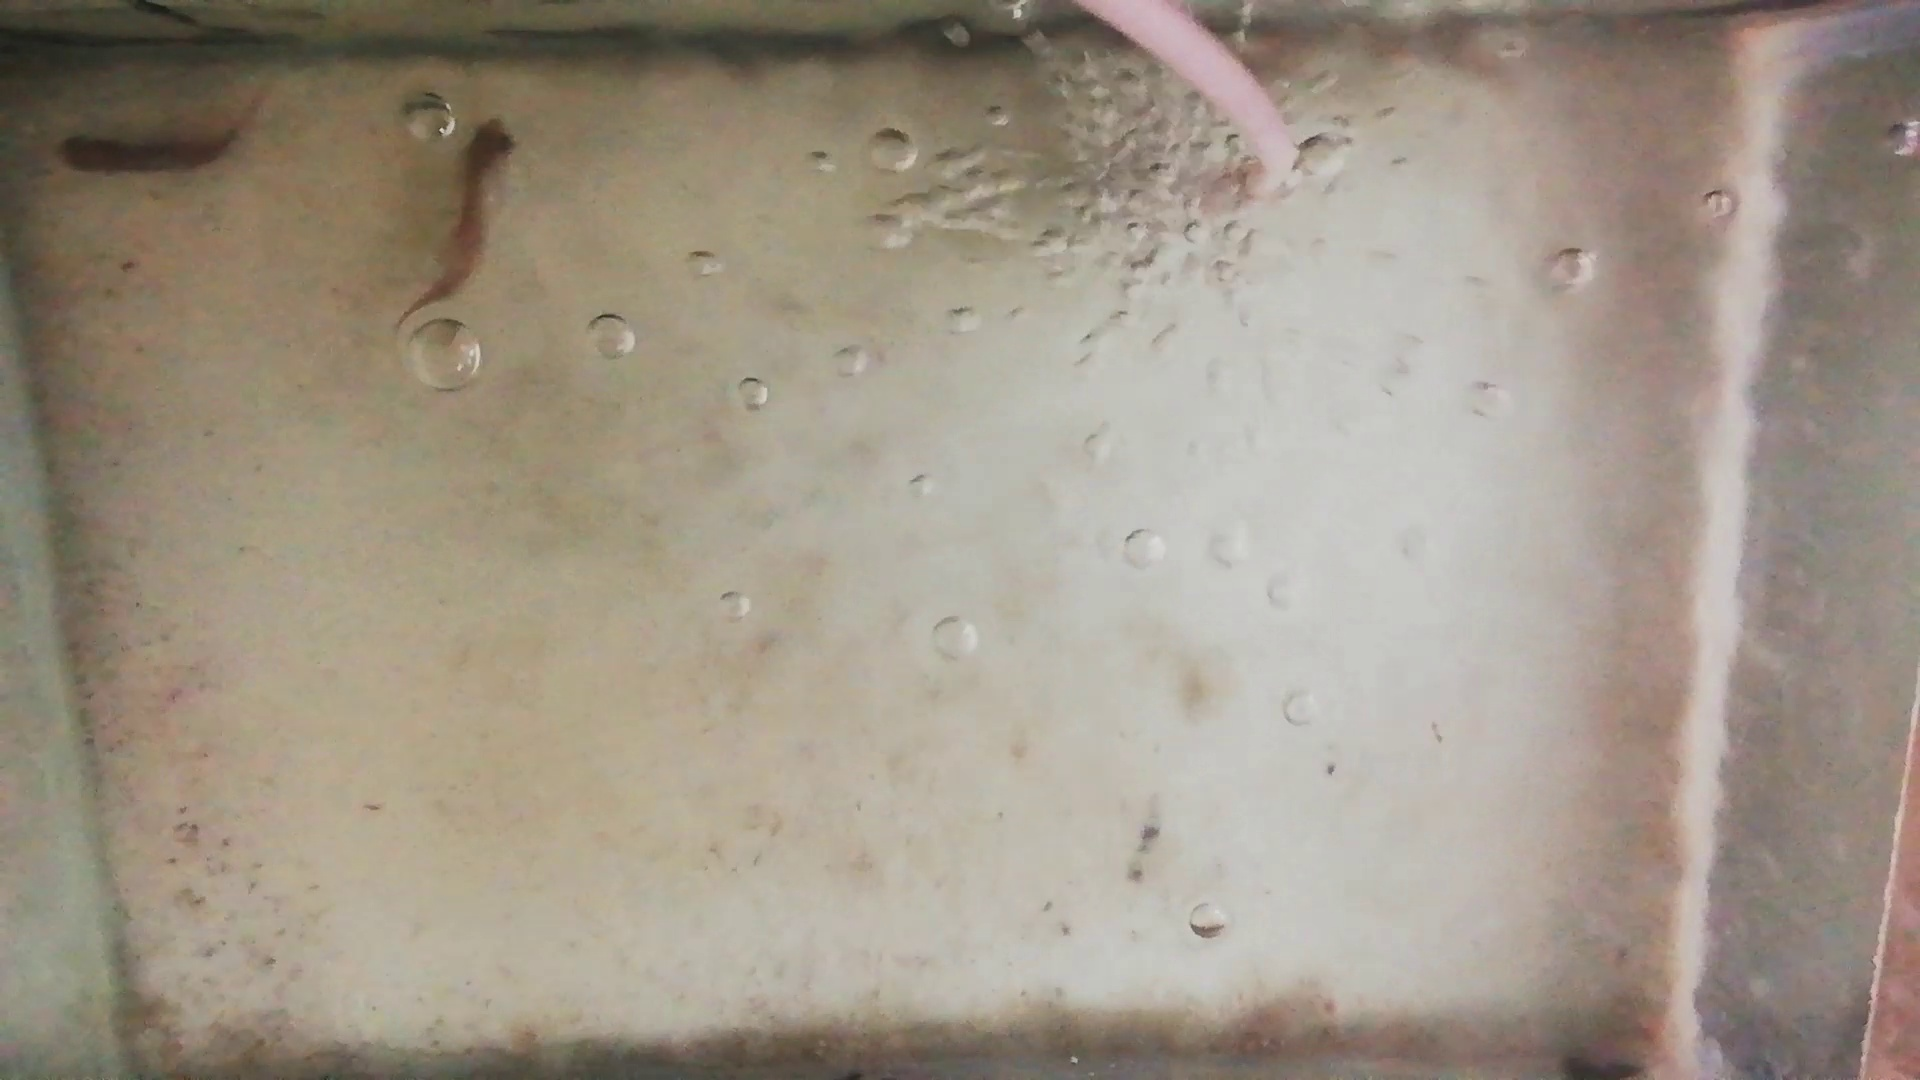fish: (392, 117, 520, 320), (57, 117, 239, 175)
